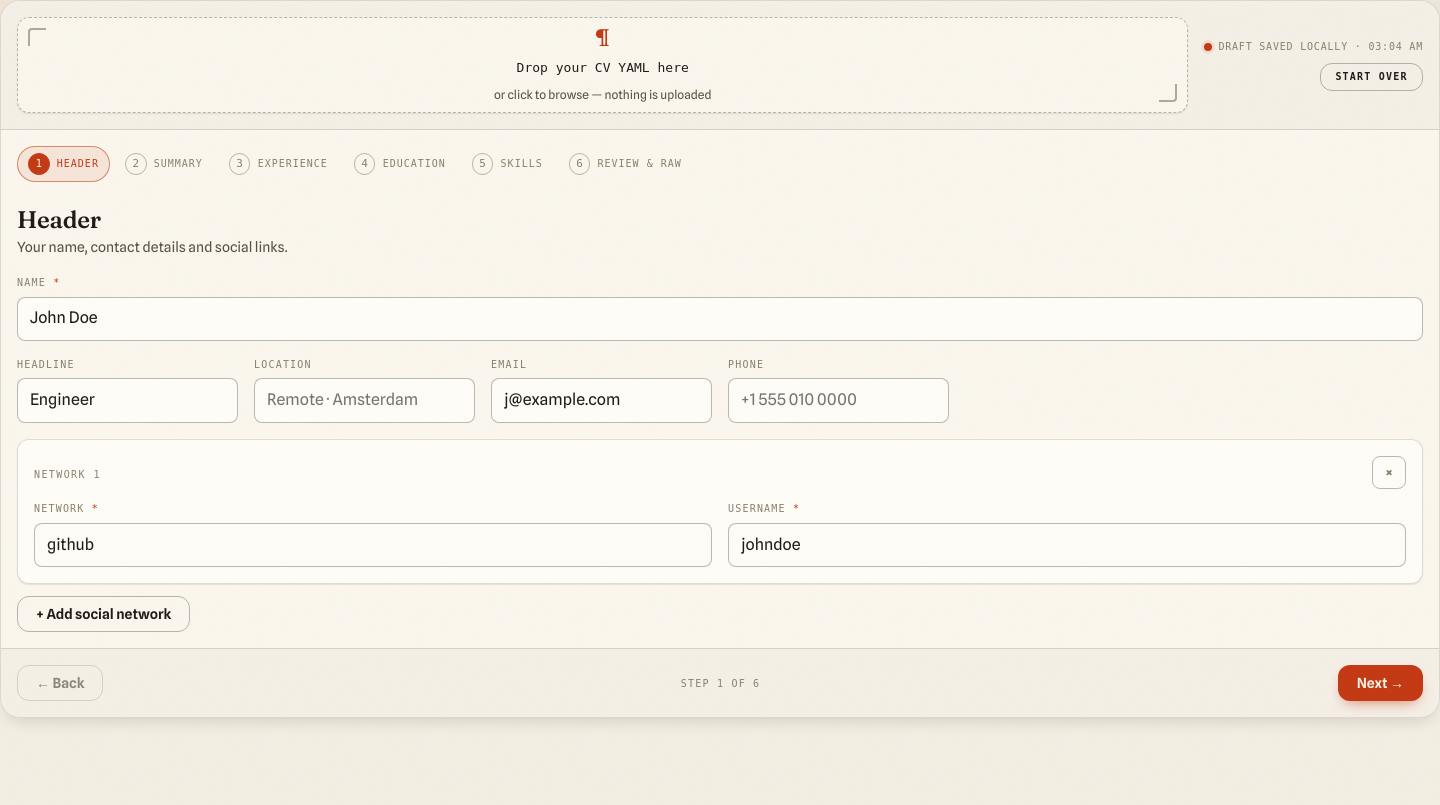
Test case: Wizard › experience rows can be removed with stable renumbering
What coordinates should you click on to do the following:
click the button "Next →"
I would click on:
 (1380, 683)
Its box is x1=1338 y1=665 x2=1423 y2=701.
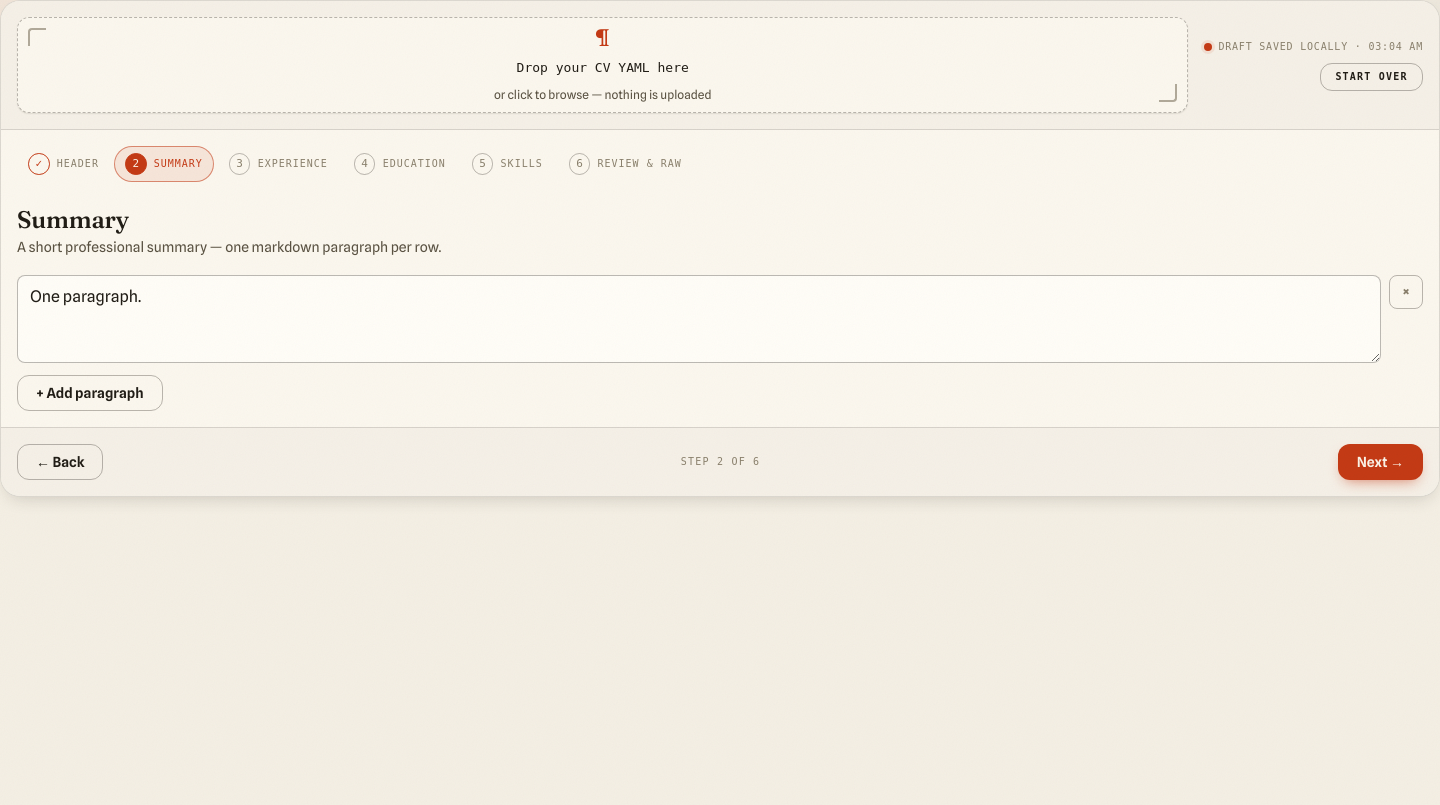
What coordinates should you click on to do the following:
click the button "Next →"
I would click on:
 (1380, 462)
Its box is x1=1338 y1=444 x2=1423 y2=480.
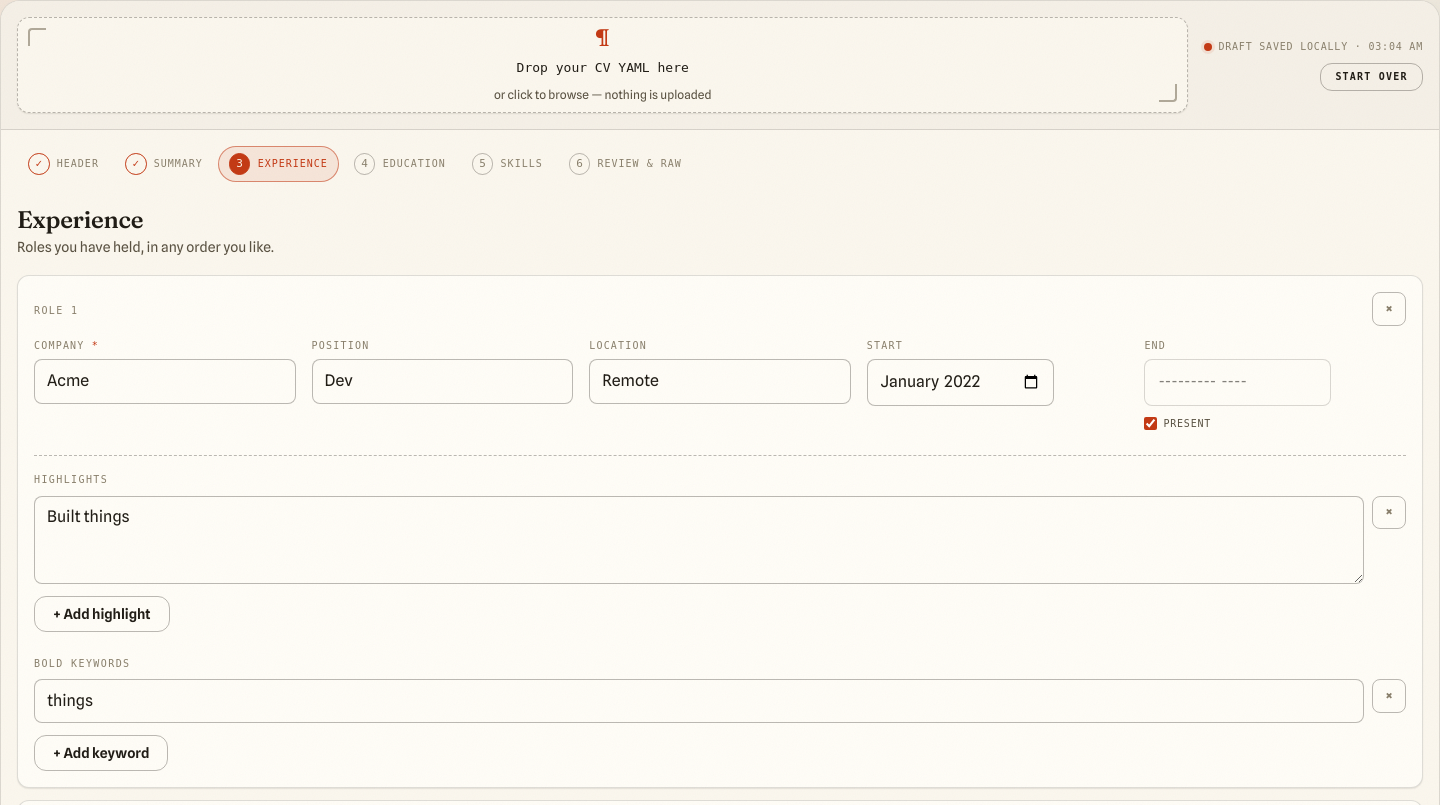
Result: the text "Role 1" is shown at x1=34 y1=303 x2=78 y2=318
What coordinates should you click on to do the following:
click the button named "Remove role 1"
I would click on:
 (1389, 309)
Its box is x1=1372 y1=292 x2=1406 y2=326.
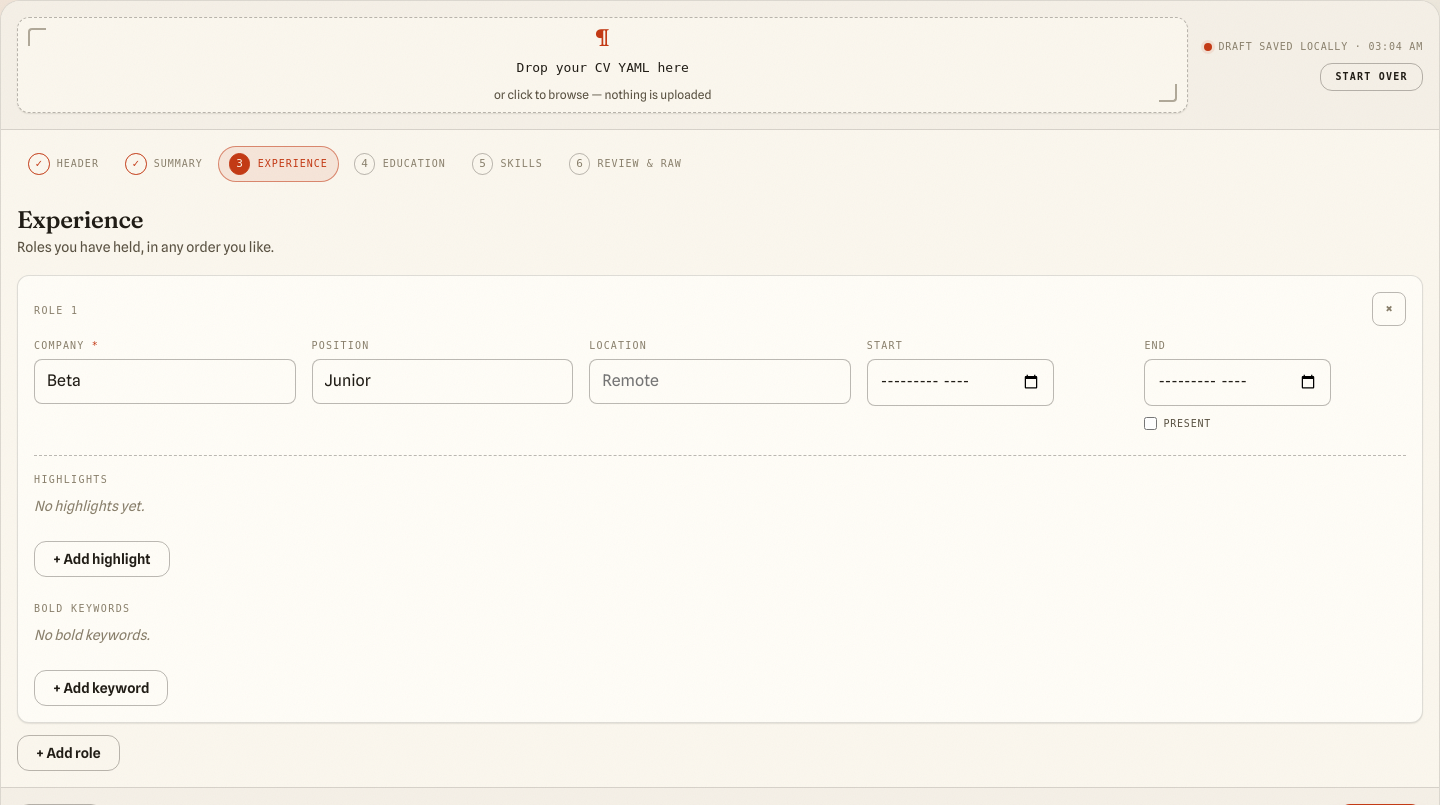
Result: the text "Role 1" is shown at x1=34 y1=303 x2=78 y2=318
Result: the field labelled "Company *" holds "Beta" at x1=34 y1=359 x2=296 y2=404
